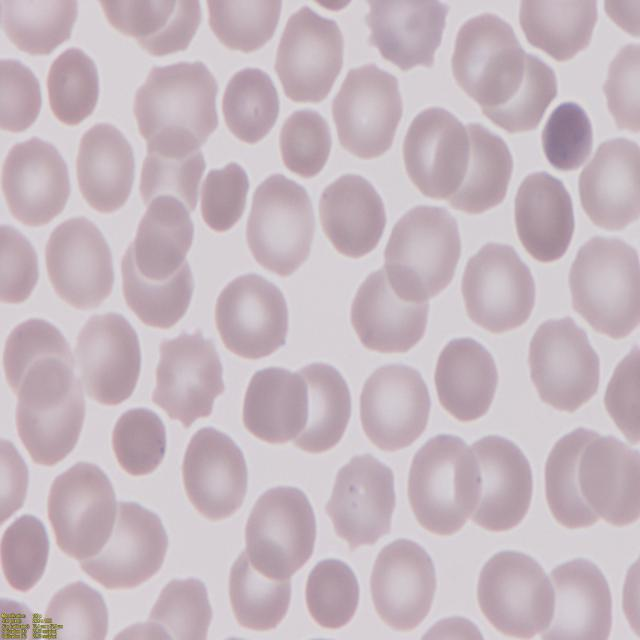RBC: (132, 61, 222, 161), (382, 204, 464, 308), (13, 359, 90, 467), (474, 545, 560, 640), (322, 450, 399, 556), (456, 432, 537, 532), (405, 434, 485, 535), (242, 173, 318, 278), (270, 7, 346, 110), (566, 231, 640, 336), (441, 114, 517, 216), (329, 64, 407, 163), (350, 262, 432, 356), (46, 458, 120, 562), (524, 315, 602, 413), (44, 211, 120, 310), (356, 358, 435, 452), (72, 311, 147, 409), (149, 331, 224, 429), (461, 240, 539, 334), (242, 484, 320, 578), (214, 269, 292, 362), (448, 12, 522, 108), (512, 167, 582, 268), (368, 536, 440, 634), (0, 134, 75, 227), (317, 169, 392, 261), (179, 428, 249, 524), (400, 104, 470, 200), (74, 119, 142, 214), (577, 133, 640, 232), (365, 1, 450, 74), (434, 334, 500, 426), (579, 432, 640, 528), (513, 0, 603, 65), (241, 364, 311, 444), (130, 194, 195, 278), (220, 64, 282, 147), (0, 0, 84, 60), (146, 573, 218, 640), (42, 46, 102, 125), (204, 0, 284, 56), (279, 106, 336, 180), (0, 216, 43, 310), (602, 341, 640, 446), (0, 52, 45, 139), (46, 582, 115, 638), (202, 160, 252, 236), (604, 34, 640, 138), (1, 434, 32, 529), (614, 537, 640, 640), (597, 0, 640, 35)
Spherocyte: (303, 556, 365, 632), (110, 405, 170, 483), (540, 96, 599, 172), (1, 508, 52, 593)
